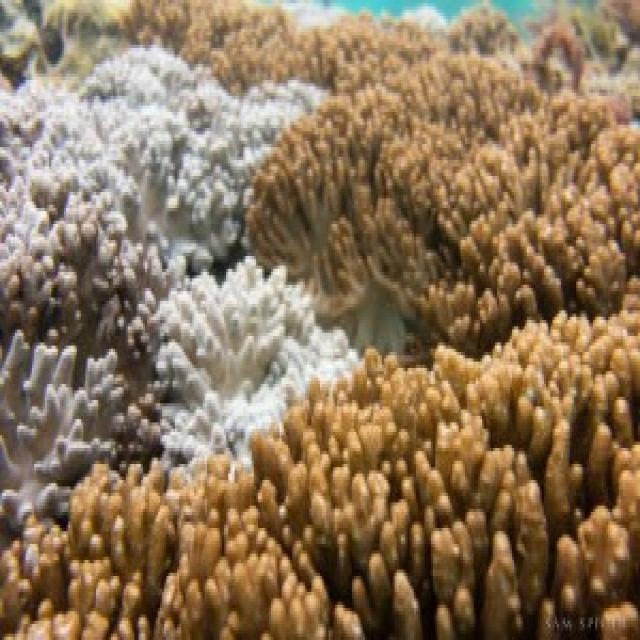Bleached: (82, 46, 321, 257), (157, 257, 357, 471), (3, 331, 138, 545), (1, 81, 127, 260)
Healthy: (255, 315, 639, 638), (1, 455, 364, 638), (421, 97, 639, 324), (253, 87, 447, 321), (3, 171, 167, 382), (163, 1, 443, 91), (391, 52, 539, 139)
